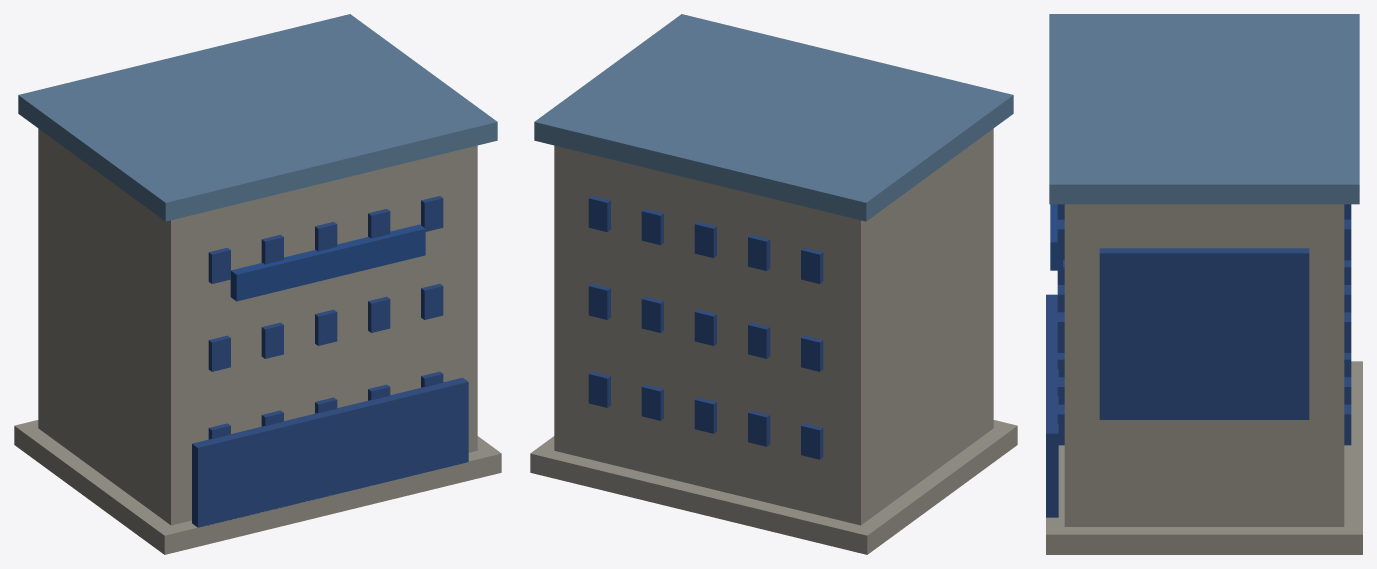
File: bld_commercial_a06.glb
The picture shows the model from 3 angles, left to right: view 1: azimuth 30°, elevation 25°; view 2: azimuth 150°, elevation 25°; view 3: azimuth 270°, elevation 25°; orthographic projection. The views are drawn at different scales.
Visible parts, largest first — view 1: body; view 2: body; view 3: body.
Part boxes in pixels (<box>): body: <box>14,14,501,554</box>; body: <box>530,14,1017,554</box>; body: <box>1046,14,1362,554</box>.
Size of what is drawn, in the model's own units: 6.6 by 6.55 by 5.1.
